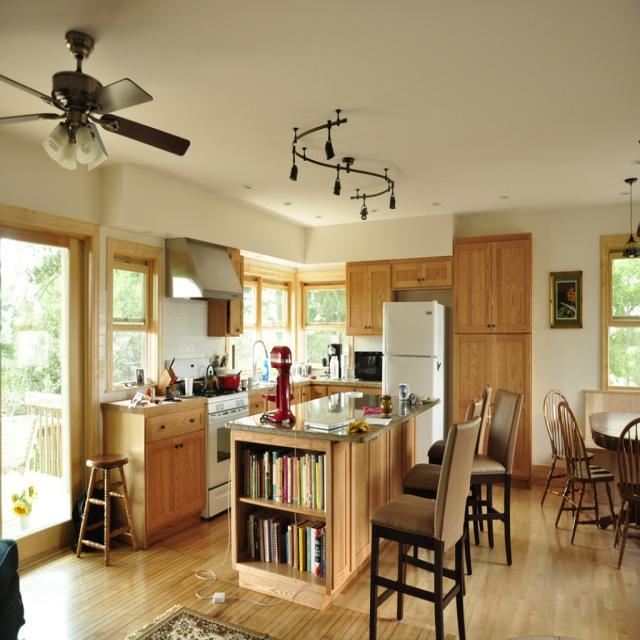fan_off: (0, 37, 193, 167)
